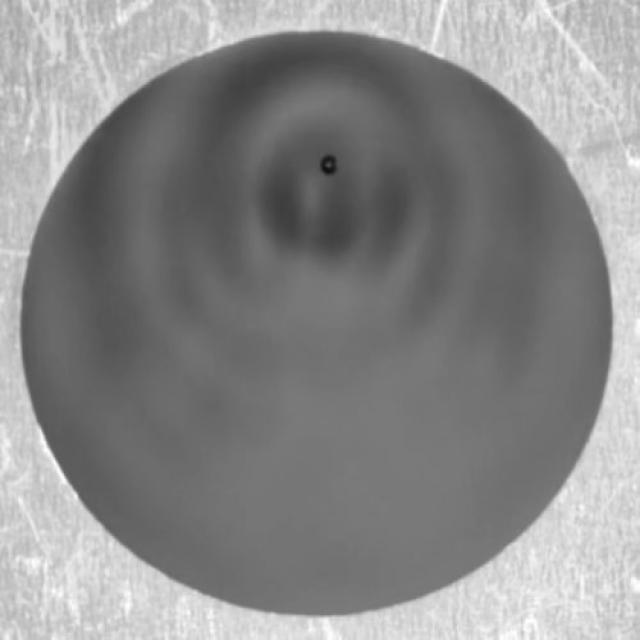droplet: (321, 154, 339, 178)
